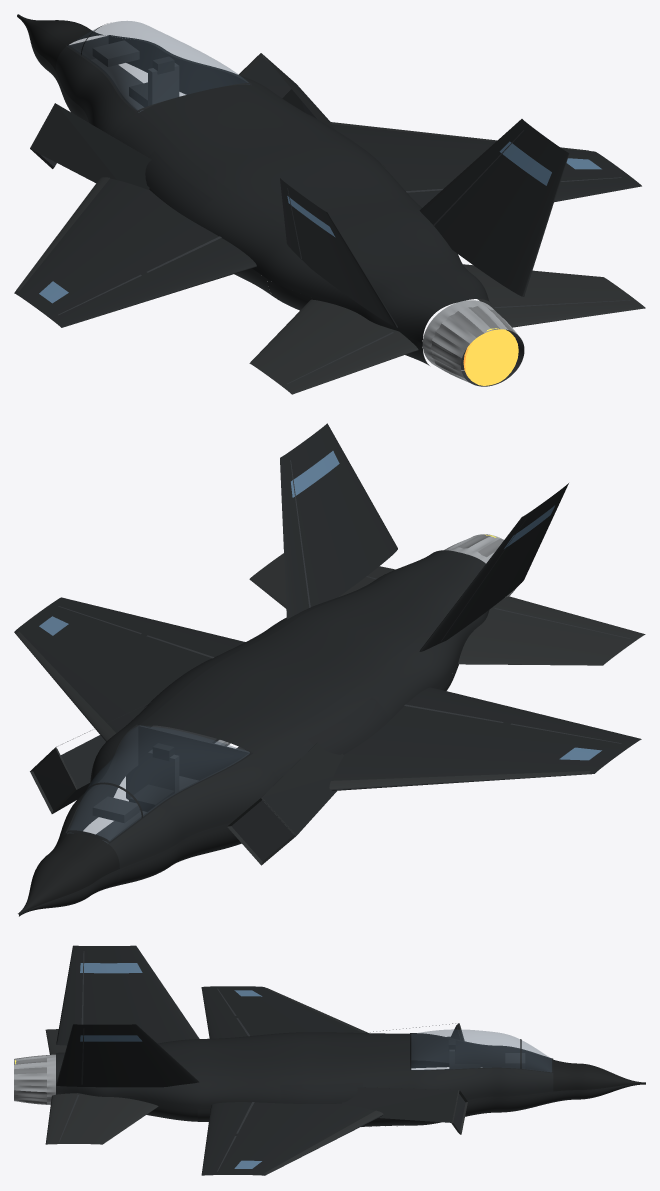
The picture shows the model from 3 angles, top to bottom: view 1: azimuth 30°, elevation 25°; view 2: azimuth 150°, elevation 25°; view 3: azimuth 270°, elevation 25°; orthographic projection. The views are drawn at different scales.
Visible parts, largest first — view 1: fuselage_top, wing_L, fin_R, fuselage_left, stabilizer_L, wing_R, canopy, stabilizer_R, fin_L, intake_duct_L1, cockpit_skin_left, fuselage_right (+14 smaller); view 2: fuselage_top, wing_L, wing_R, fin_R, canopy, stabilizer_L, fuselage_left, cockpit_skin_left, fin_L, intake_duct_L1, cockpit_bulkhead_rear, cockpit_skin_belly (+16 smaller); view 3: fuselage_top, wing_R, fin_L, fin_R, fuselage_right, wing_L, canopy, stabilizer_R, cockpit_skin_right, intake_duct_R1, cockpit_tub_L, shoulder_access_R (+11 smaller).
Boxes of the visible parts, bbox=[...] form: fuselage_top: bbox=[139, 85, 484, 311]; wing_L: bbox=[14, 178, 256, 327]; fin_R: bbox=[419, 119, 569, 296]; fuselage_left: bbox=[113, 113, 435, 343]; stabilizer_L: bbox=[249, 299, 418, 394]; wing_R: bbox=[331, 124, 641, 207]; canopy: bbox=[68, 21, 249, 112]; stabilizer_R: bbox=[463, 264, 645, 327]; fin_L: bbox=[280, 178, 397, 327]; intake_duct_L1: bbox=[30, 104, 151, 189]; cockpit_skin_left: bbox=[55, 46, 138, 136]; fuselage_right: bbox=[252, 85, 489, 301]; fuselage_top: bbox=[140, 550, 485, 752]; wing_L: bbox=[330, 687, 641, 790]; wing_R: bbox=[14, 597, 245, 741]; fin_R: bbox=[280, 423, 397, 619]; canopy: bbox=[69, 725, 249, 842]; stabilizer_L: bbox=[458, 596, 645, 665]; fuselage_left: bbox=[253, 563, 489, 779]; cockpit_skin_left: bbox=[108, 753, 278, 868]; fin_L: bbox=[419, 483, 568, 651]; intake_duct_L1: bbox=[261, 742, 343, 835]; cockpit_bulkhead_rear: bbox=[138, 725, 249, 780]; cockpit_skin_belly: bbox=[110, 822, 241, 887]; fuselage_top: bbox=[56, 1033, 409, 1075]; wing_R: bbox=[201, 1102, 383, 1175]; fin_L: bbox=[56, 945, 199, 1045]; fin_R: bbox=[56, 1024, 199, 1087]; fuselage_right: bbox=[56, 1068, 409, 1108]; wing_L: bbox=[201, 986, 362, 1038]; canopy: bbox=[411, 1029, 551, 1071]; stabilizer_R: bbox=[45, 1093, 158, 1144]; cockpit_skin_right: bbox=[410, 1068, 553, 1099]; intake_duct_R1: bbox=[342, 1087, 459, 1122]; cockpit_tub_L: bbox=[411, 1034, 551, 1071]; shoulder_access_R: bbox=[280, 1082, 362, 1103].
Size of the model in its own units: 10.6 by 3.31 by 15.
